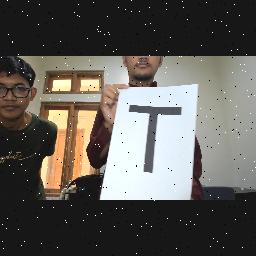t: (123, 96, 187, 176)
